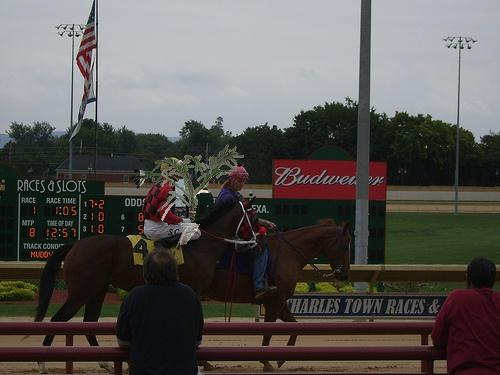tampered: (131, 145, 244, 245)
